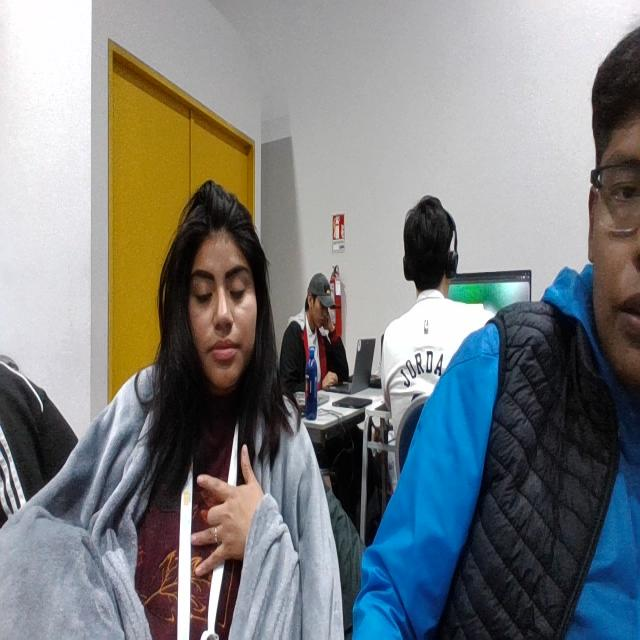feel: (188, 442, 271, 586)
